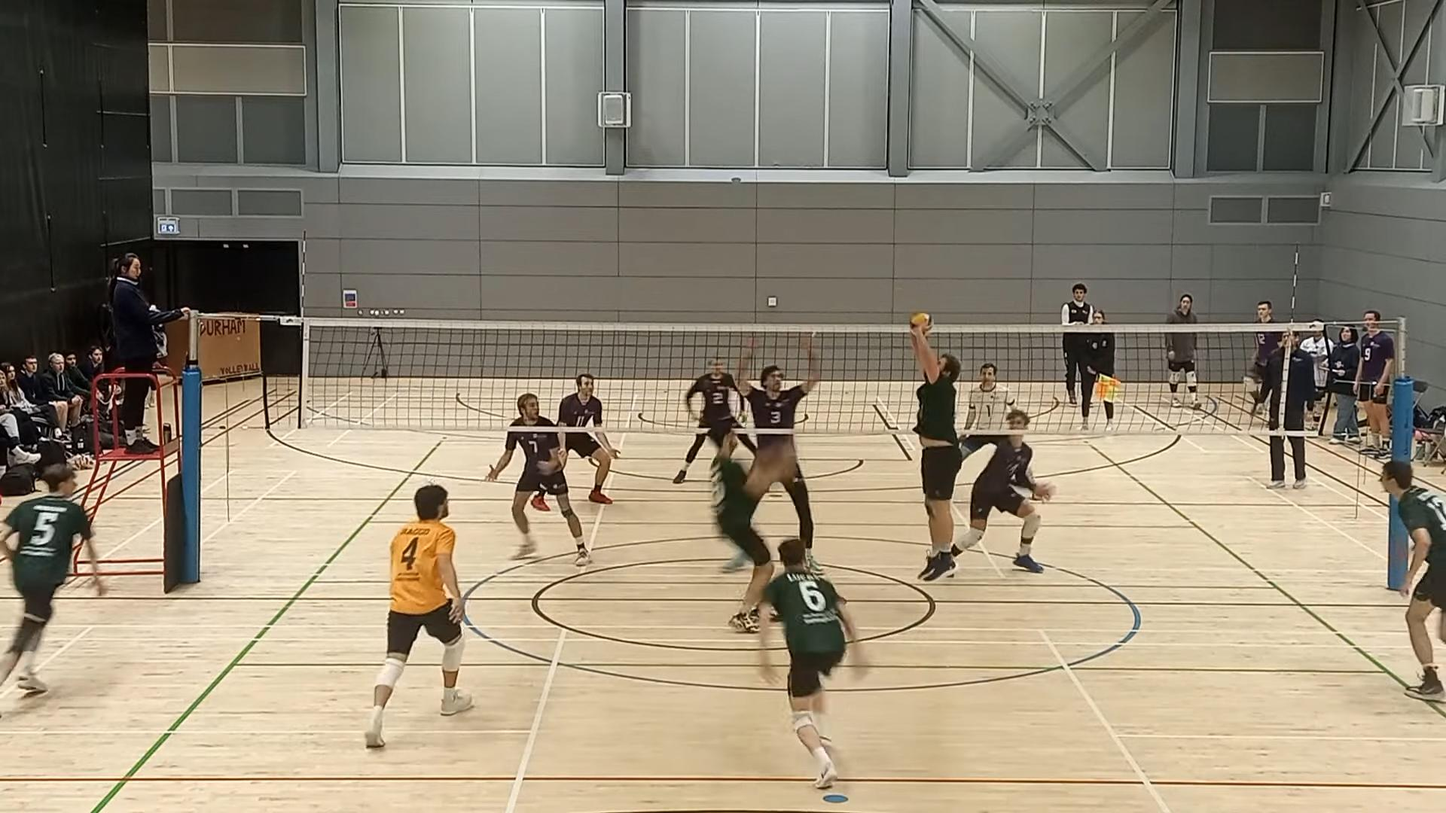Player: (365, 485, 472, 748), (763, 537, 865, 787), (0, 464, 105, 693), (486, 393, 590, 566), (713, 434, 795, 632), (1380, 461, 1445, 702), (959, 410, 1052, 572), (737, 337, 820, 461), (673, 358, 740, 483), (557, 373, 619, 504), (959, 363, 1014, 458)
Set: (906, 322, 964, 577)
ball: (907, 313, 931, 327)
